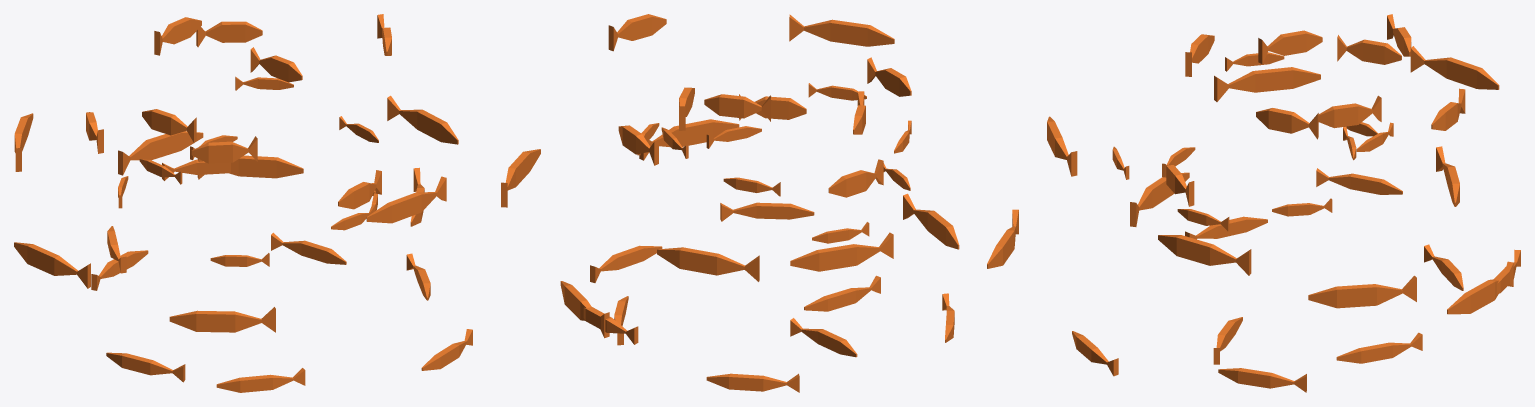
The model's file is Fish.gltf.
The picture shows the model from 3 angles, left to right: view 1: azimuth 30°, elevation 25°; view 2: azimuth 150°, elevation 25°; view 3: azimuth 270°, elevation 25°; orthographic projection. The views are drawn at different scales.
Parts seen in each view (by area): view 1: Plane; view 2: Plane; view 3: Plane.
Part boxes in pixels (bbox=[...]): Plane: bbox=[14, 14, 472, 392]; Plane: bbox=[501, 14, 1018, 392]; Plane: bbox=[1047, 14, 1520, 392].
Bounding box in the file's own units: 11.05 × 7.35 × 9.93.
